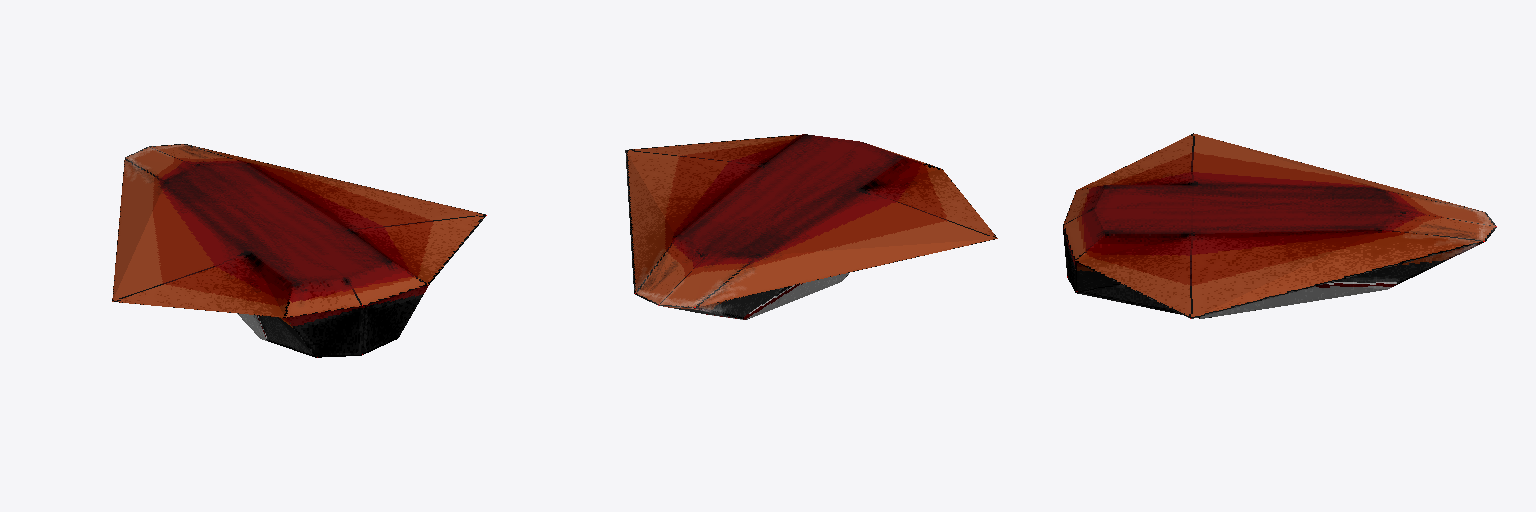
3 renders of one model, left to right at view 1: azimuth 30°, elevation 25°; view 2: azimuth 150°, elevation 25°; view 3: azimuth 270°, elevation 25°, orthographic.
Size of the model in its own units: 2.13 by 0.5103 by 2.14.
1 materials, 1 textured.